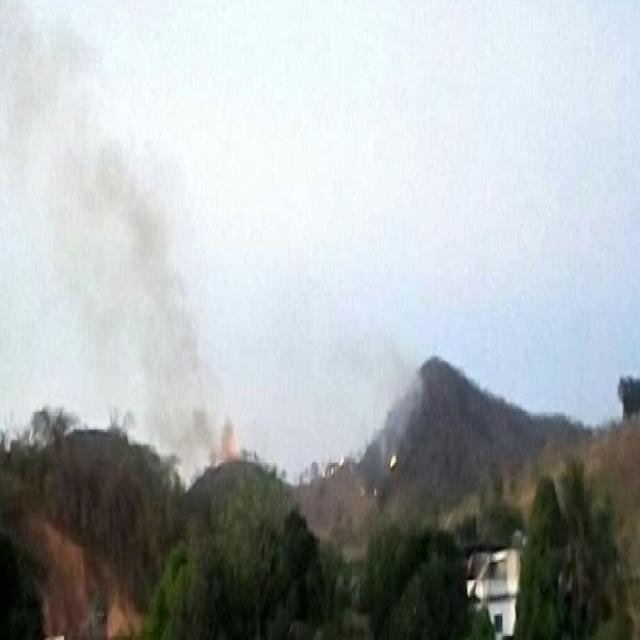Fire: (220, 414, 238, 468), (388, 452, 398, 470)
Smoke: (83, 132, 227, 412), (328, 300, 430, 448), (388, 363, 424, 446), (151, 415, 193, 465), (196, 407, 216, 471), (378, 422, 388, 486), (416, 364, 426, 419)
